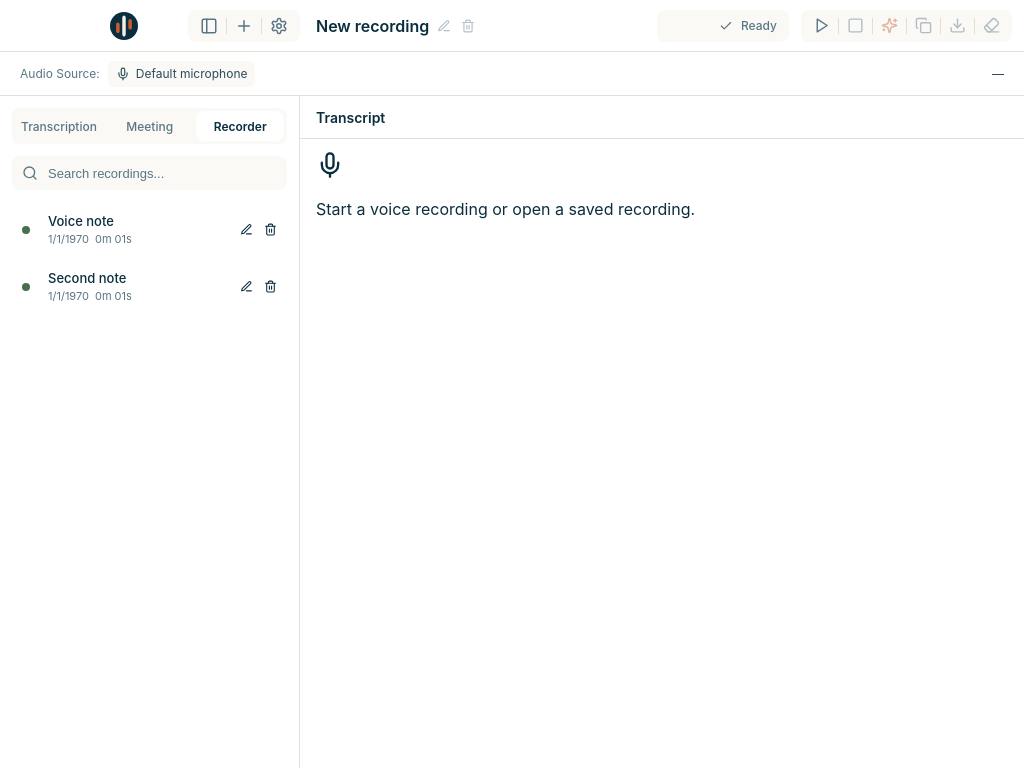
Scenario: Recorder mode › keeps a manual selection when the automatic first open resolves late
The image size is (1024, 768).
What coordinates should you click on to do the following:
click the button with aria-label "Open Second note"
I would click on:
 (132, 286)
Its box is [42, 269, 223, 304].
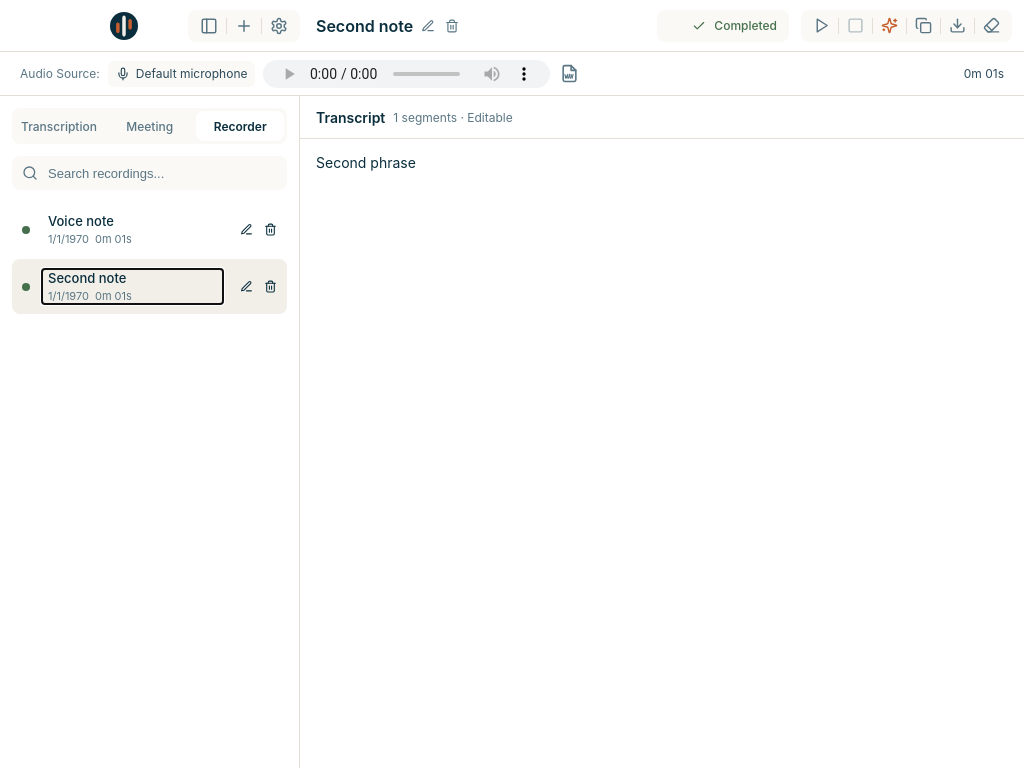
Expected: the heading "Second note" is shown, [316, 16, 413, 36]
